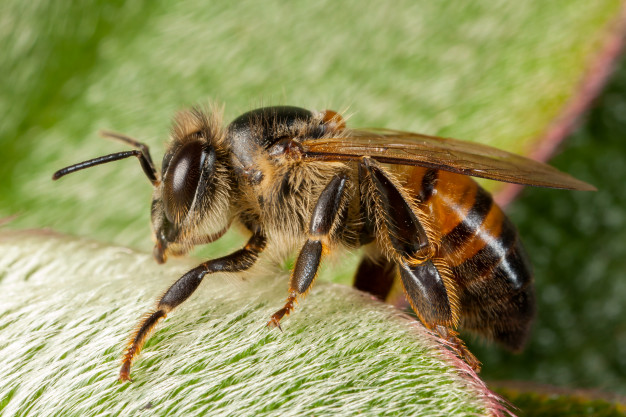bee: (55, 70, 616, 410)
